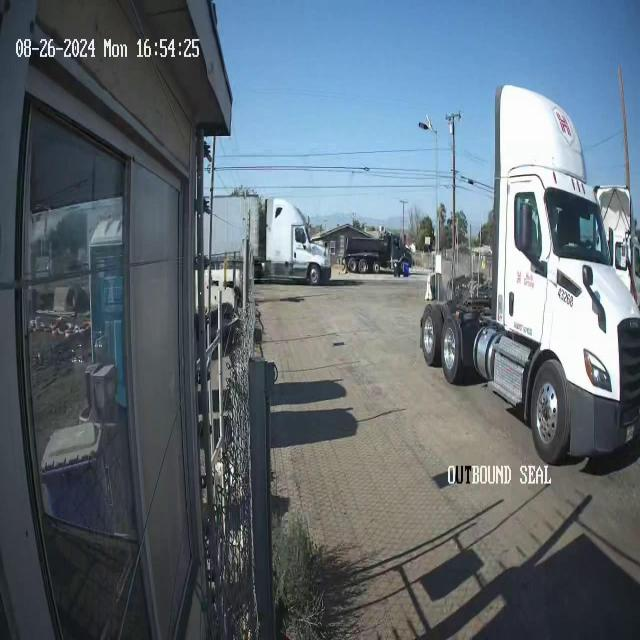TRUCK_IN: (420, 81, 639, 467)
